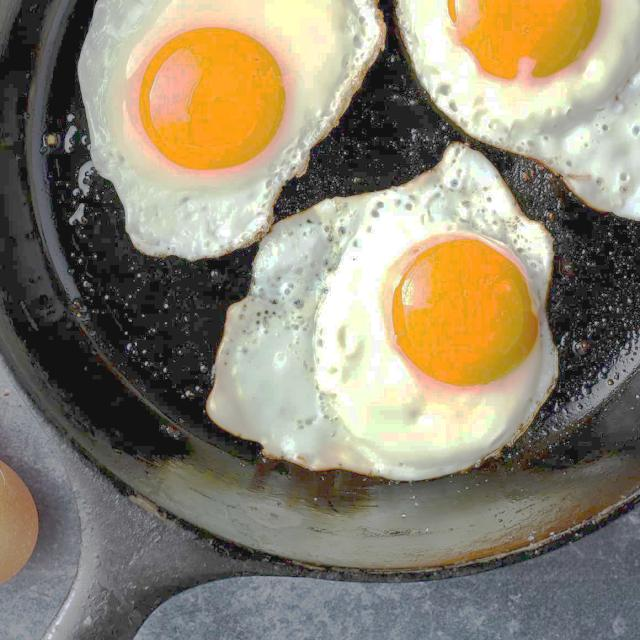fried_eggs: (208, 142, 556, 482), (77, 0, 385, 259), (398, 0, 640, 220)
